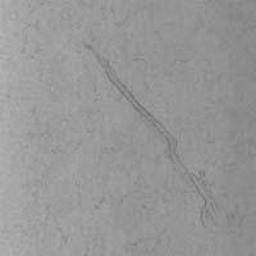Water spot: (82, 41, 243, 238)
